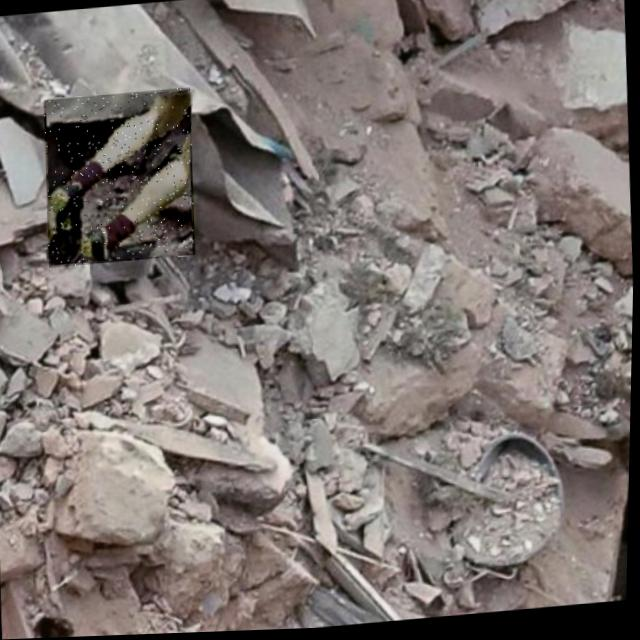Person in Rubble: (41, 89, 199, 268)
